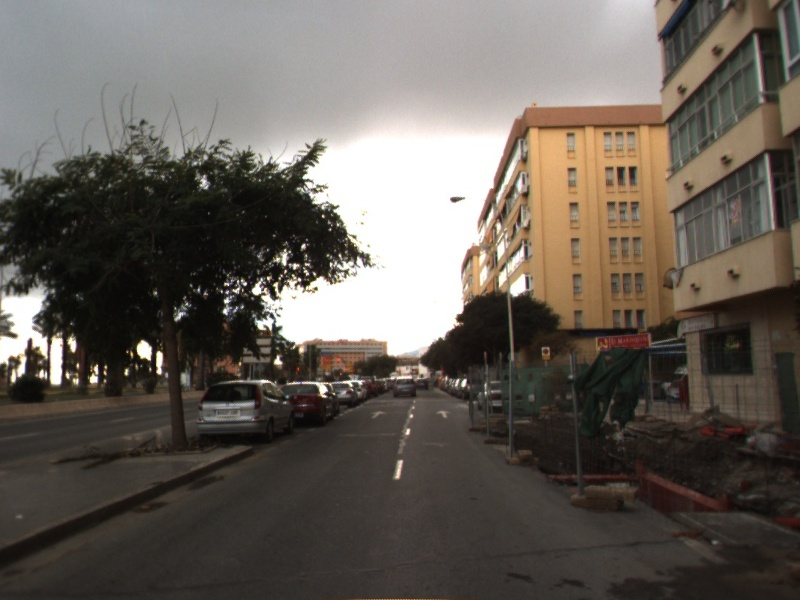STRAIGHT: (369, 409, 389, 420), (435, 408, 453, 419)
